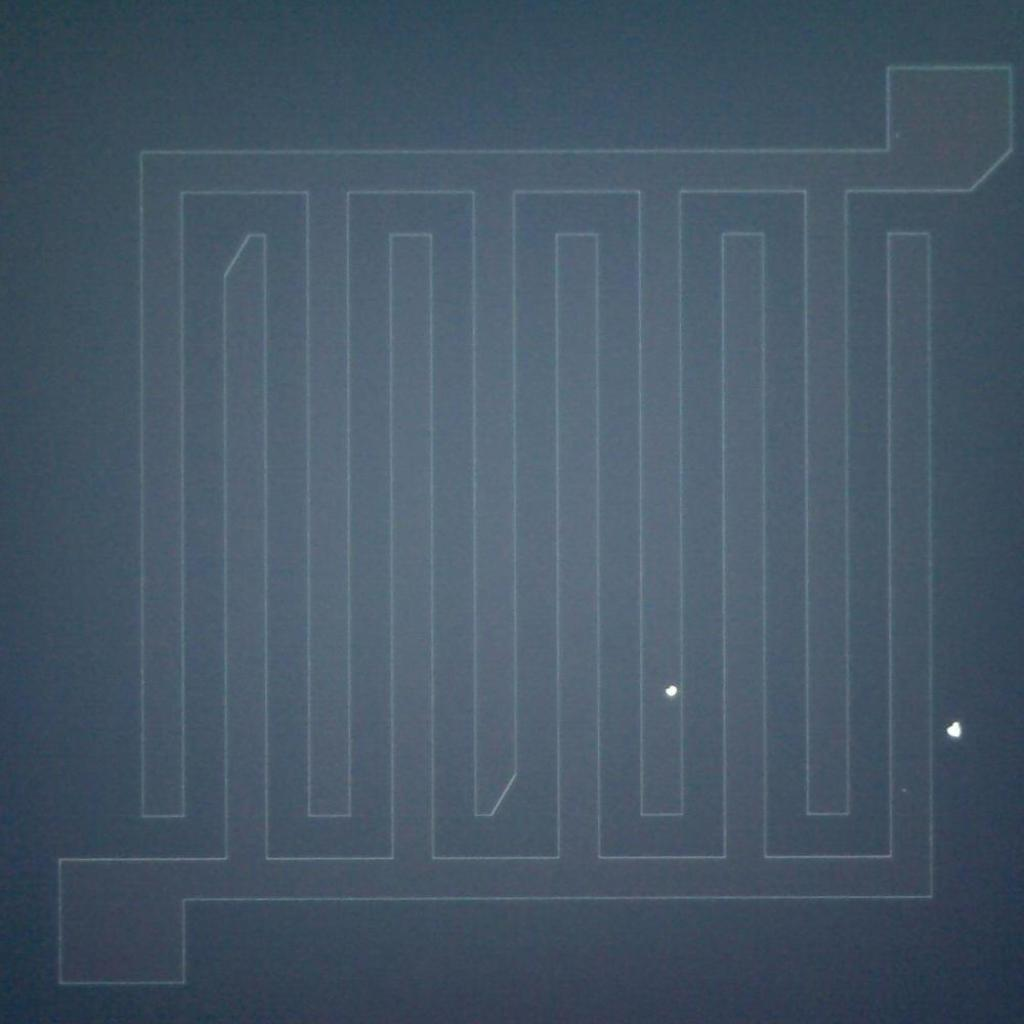edge circuit: (212, 221, 274, 287), (467, 758, 527, 825), (954, 138, 1018, 200)
spot: (944, 717, 969, 744), (661, 681, 682, 702)
